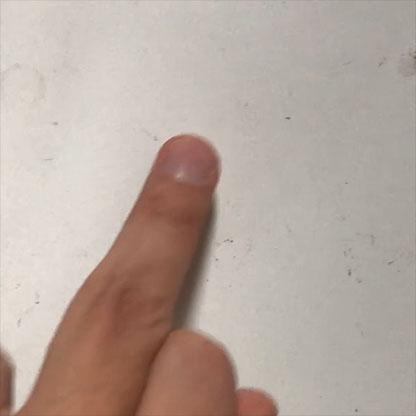fingertip: (150, 119, 230, 210)
